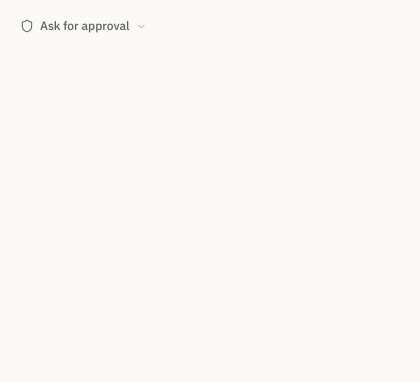
loads the current chat and shows all review choices
Press the mouse on the button with aria-label "Permissions:" at (83, 26), box [12,12,154,40]
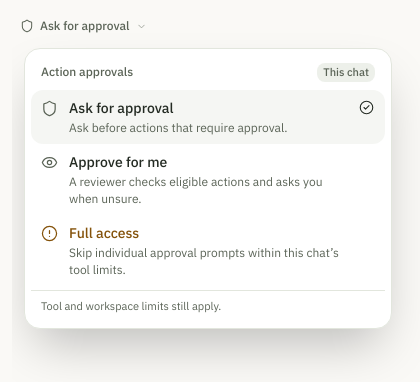
Result: the menu item "Ask for approval Ask before actions that require approval." is shown at [31,90,385,144]
Result: the menu item "Approve for me" is shown at [41,153,322,206]
Result: the text "Tool and workspace limits still apply." is shown at [31,290,385,322]
